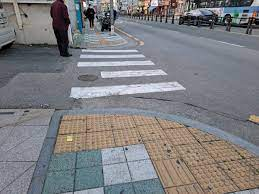guide_blocks: (142, 119, 199, 192), (191, 145, 258, 192), (60, 115, 139, 147)
